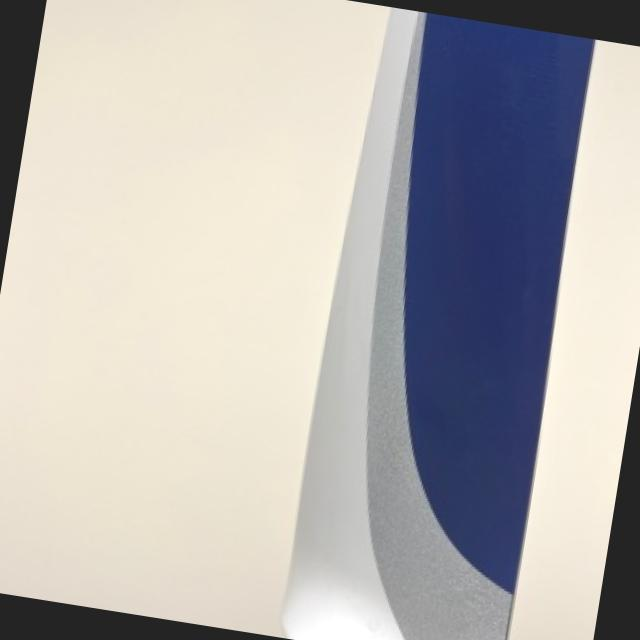healthy: (282, 7, 510, 640)
